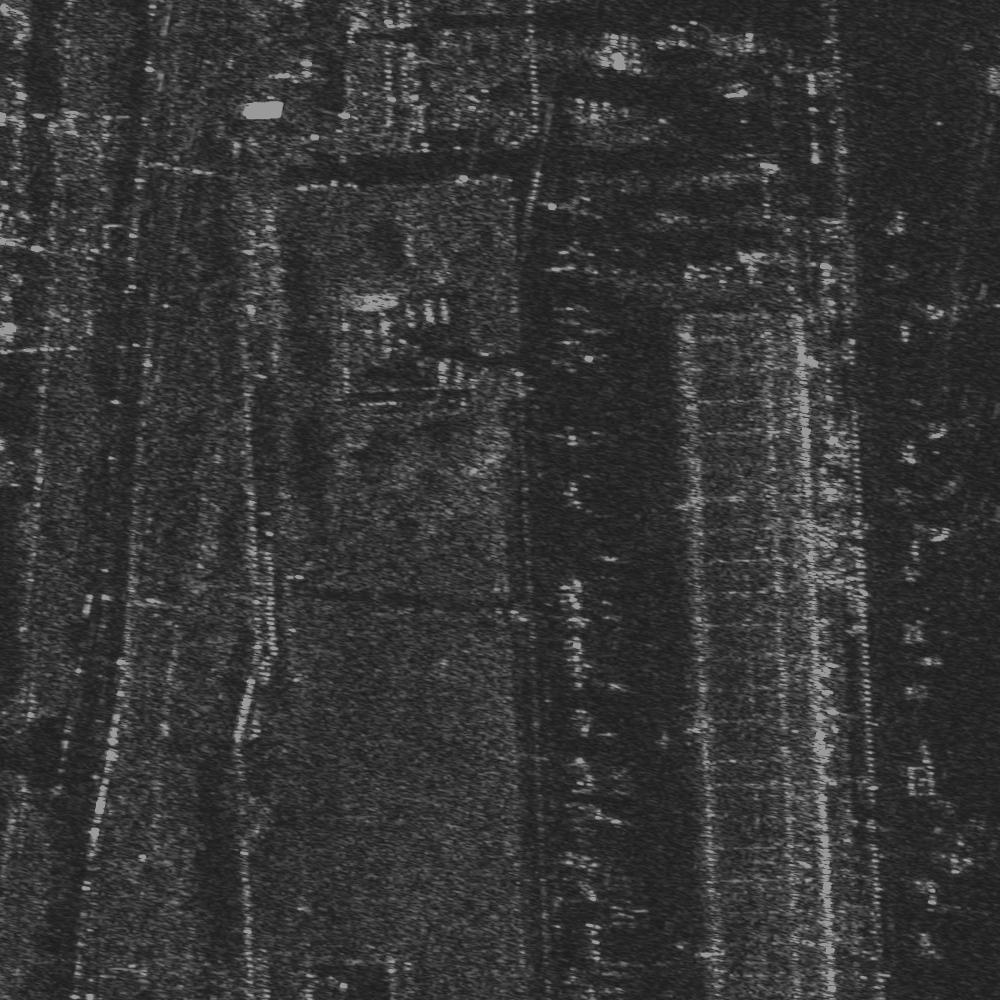A320/321: (907, 493, 999, 565), (922, 386, 999, 450)
Boeing737: (914, 276, 999, 349)
